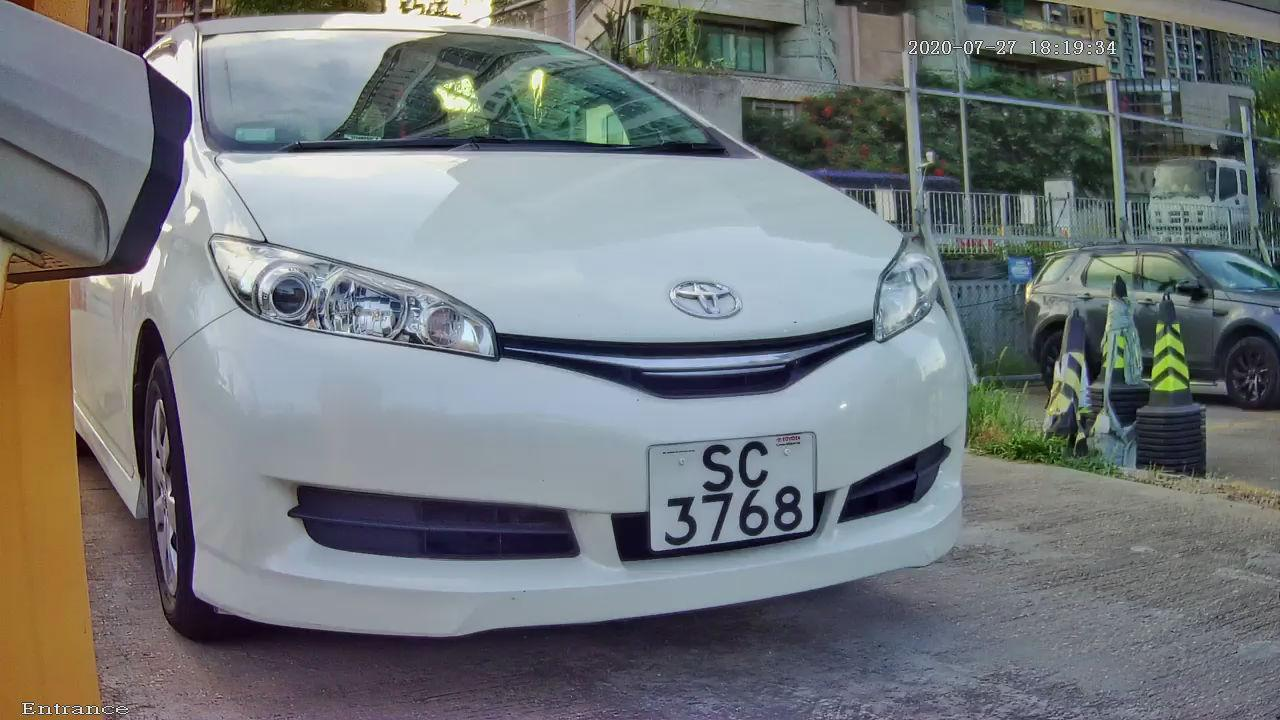privatecar: (81, 10, 1063, 676)
